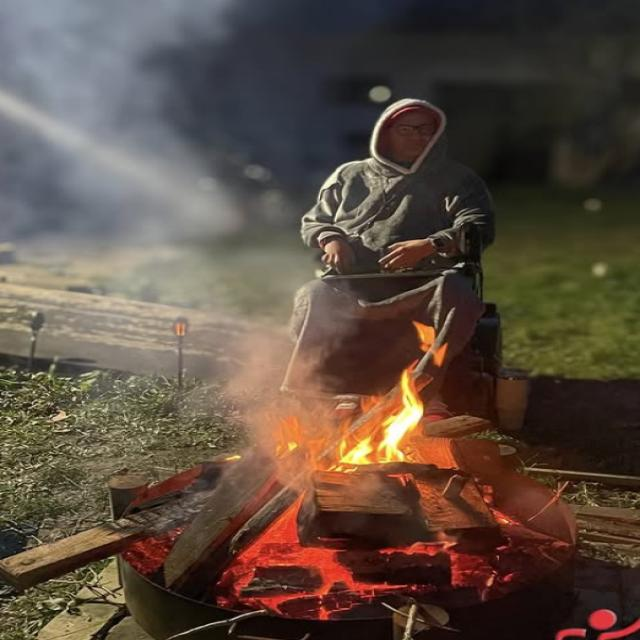fire: (217, 491, 406, 620), (407, 534, 514, 603), (273, 414, 338, 490), (339, 415, 414, 465), (122, 525, 186, 577), (399, 366, 424, 438), (412, 321, 447, 368), (477, 483, 515, 526)
